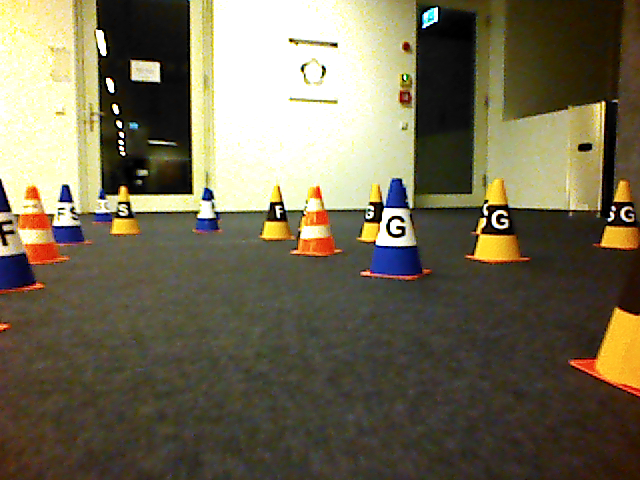bluecone: (358, 177, 431, 282)
orangeconesmall: (290, 184, 347, 257)
yellowcone: (464, 178, 533, 265), (594, 179, 640, 250), (259, 183, 294, 242)
